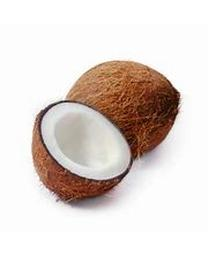coconut: (63, 59, 182, 164), (30, 99, 134, 203)
